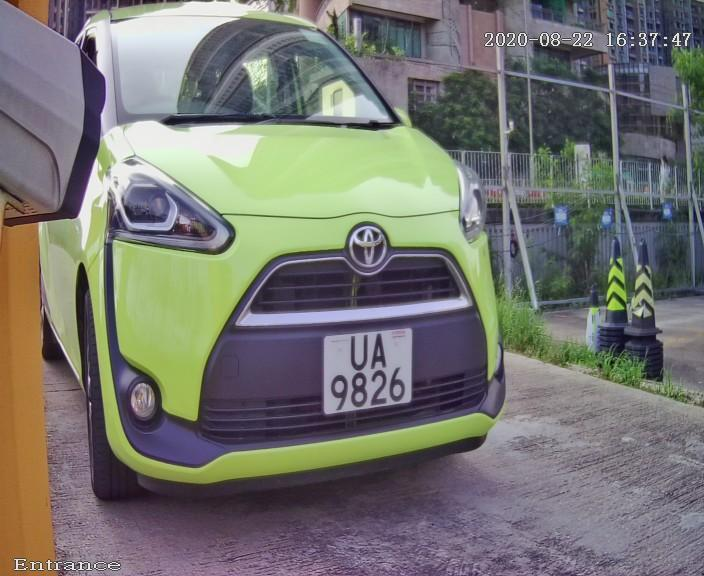Car: (1, 1, 566, 548)
License Plate: (315, 319, 422, 427)
